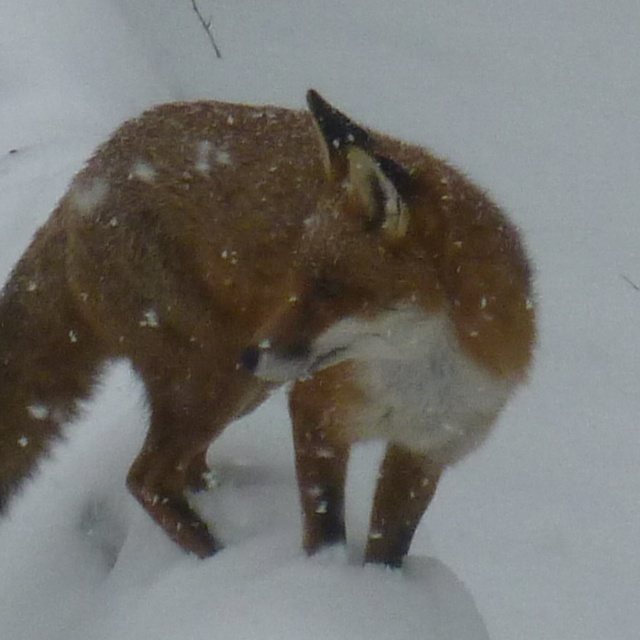Fox: (0, 86, 545, 571)
